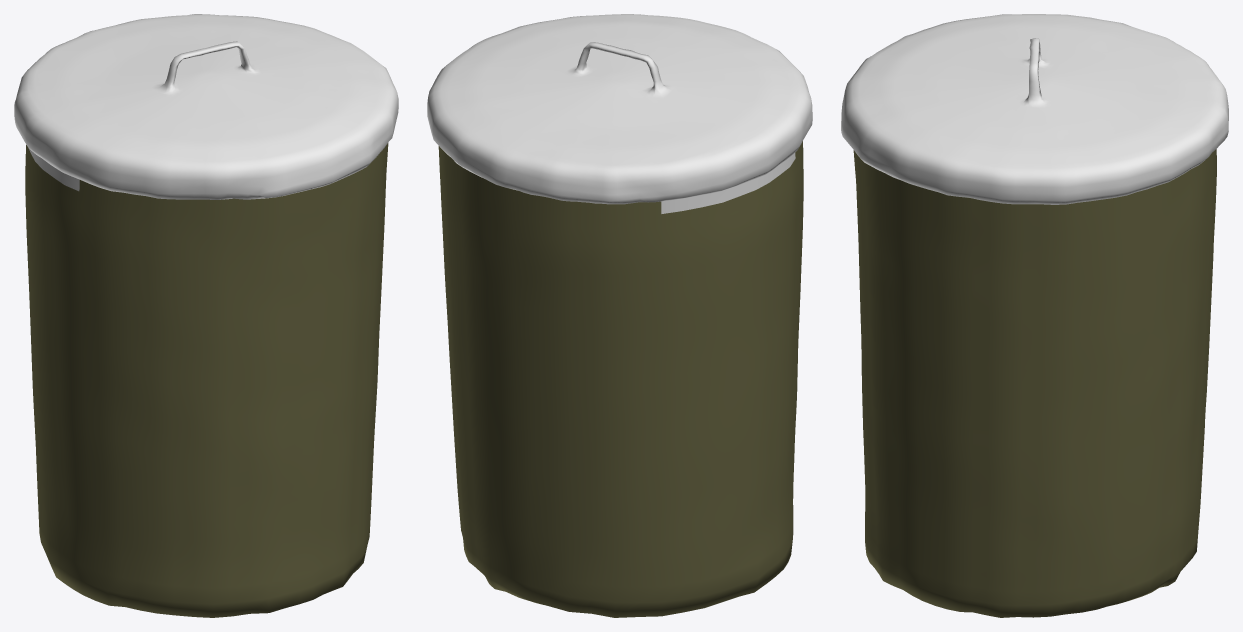
File: bindarkgreen.fbx
3 views of the same model, side by side, from view 1: azimuth 30°, elevation 25°; view 2: azimuth 150°, elevation 25°; view 3: azimuth 270°, elevation 25° (orthographic).
Visible parts, largest first — view 1: bin:Mesh; view 2: bin:Mesh; view 3: bin:Mesh.
Boxes of the visible parts, box(x1,y1,x2,y2) form: bin:Mesh: box(14, 14, 398, 617); bin:Mesh: box(427, 14, 812, 617); bin:Mesh: box(841, 14, 1228, 617).
Size of the model in its own units: 50.44 by 73 by 51.
